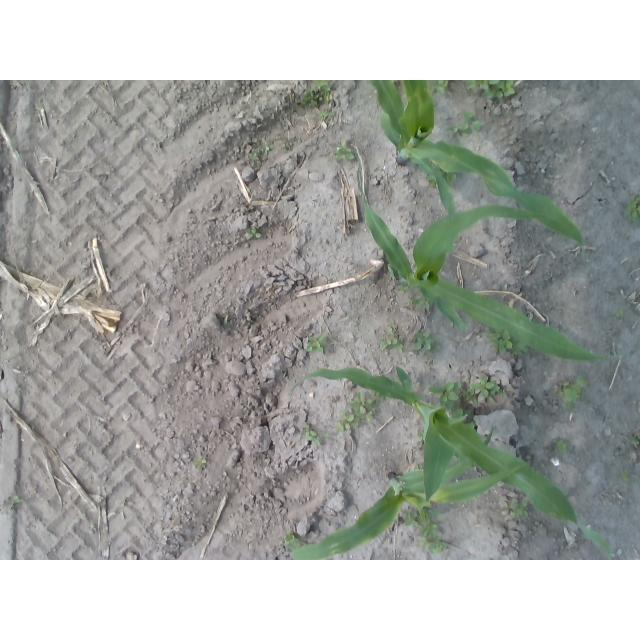Maize: (293, 366, 612, 558), (355, 165, 621, 362), (371, 80, 586, 246), (290, 425, 522, 560)
Weeds: (554, 376, 587, 409), (465, 81, 515, 100), (472, 376, 501, 404), (428, 382, 459, 402), (414, 330, 437, 350), (488, 333, 512, 352), (306, 334, 327, 354), (419, 519, 441, 538), (463, 110, 481, 132), (351, 393, 370, 413), (337, 142, 355, 161), (626, 194, 639, 220), (336, 415, 355, 430), (301, 92, 318, 108), (421, 541, 445, 552), (413, 296, 431, 310), (448, 124, 468, 136), (503, 501, 517, 516), (382, 338, 399, 350), (516, 500, 528, 516), (463, 391, 477, 404), (356, 411, 372, 422), (244, 229, 260, 240), (453, 408, 472, 417), (431, 81, 445, 92), (285, 535, 299, 546), (194, 459, 207, 470), (248, 153, 260, 164), (261, 145, 274, 155), (556, 440, 566, 453), (313, 80, 327, 89), (321, 91, 332, 102), (305, 430, 316, 439), (396, 286, 408, 294), (322, 112, 335, 119), (630, 437, 638, 448), (398, 343, 405, 353), (622, 474, 629, 483), (313, 439, 321, 446), (616, 310, 624, 317)
